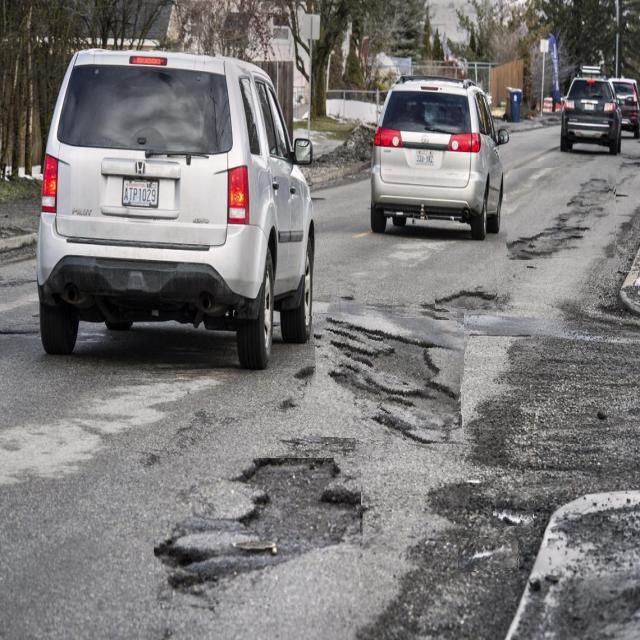Pothole: (154, 458, 362, 604), (306, 304, 464, 444), (506, 168, 616, 259), (435, 261, 498, 310), (458, 537, 520, 572), (493, 492, 534, 528)
